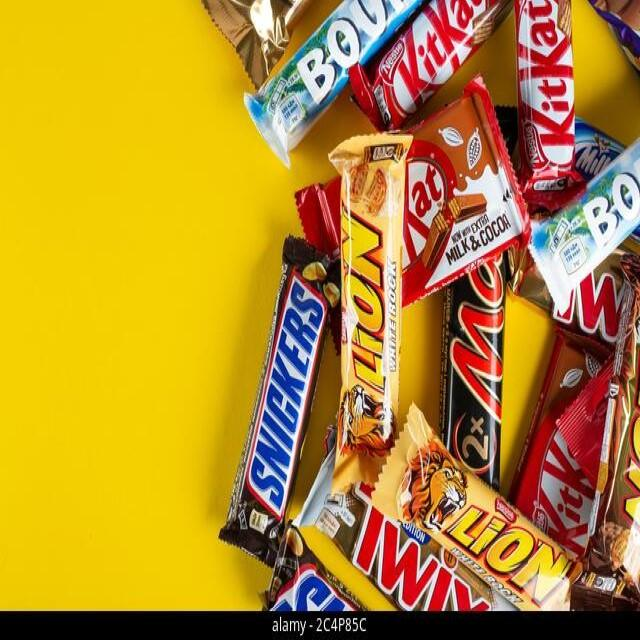kitkat_chocolate: (412, 94, 503, 238), (400, 0, 480, 116), (447, 275, 493, 468), (523, 0, 569, 178)
snickers_chocolate: (208, 270, 327, 540)
